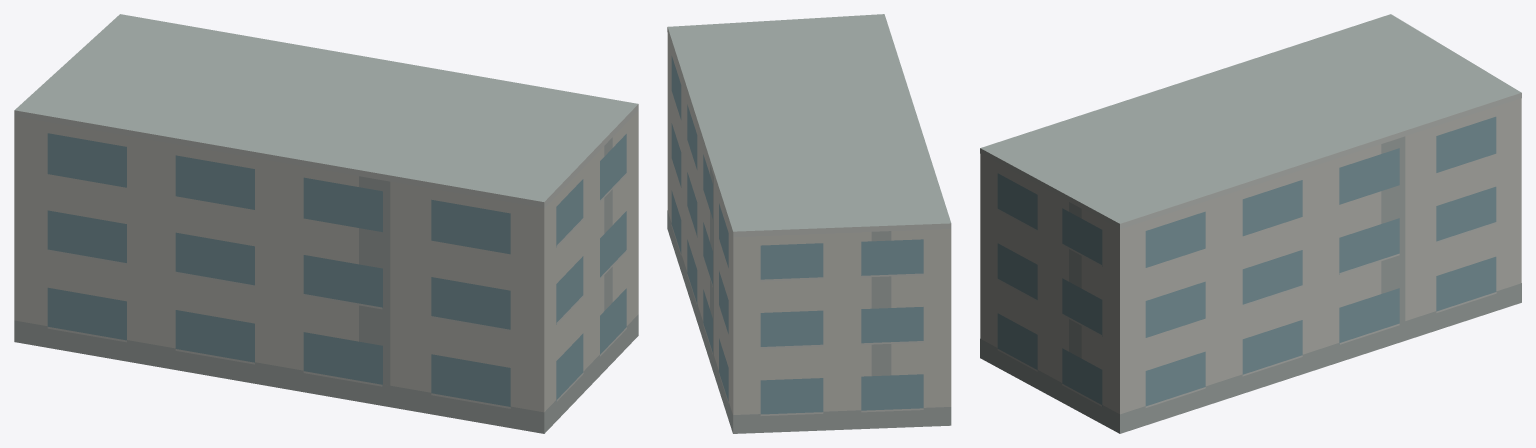
The model's file is residential-ad9d66e1-20d3-4e23-a75f-855586b9b0e5.glb.
3 renders of one model, left to right at view 1: azimuth 30°, elevation 25°; view 2: azimuth 150°, elevation 25°; view 3: azimuth 270°, elevation 25°, orthographic. The views are drawn at different scales.
Parts seen in each view (by area): view 1: residential-ad9d66e1-20d3-4e23-a75f-855586b9b0e5.tmp; view 2: residential-ad9d66e1-20d3-4e23-a75f-855586b9b0e5.tmp; view 3: residential-ad9d66e1-20d3-4e23-a75f-855586b9b0e5.tmp.
Part boxes in pixels (x1,y1,x2,y2): residential-ad9d66e1-20d3-4e23-a75f-855586b9b0e5.tmp: [14, 14, 638, 433]; residential-ad9d66e1-20d3-4e23-a75f-855586b9b0e5.tmp: [667, 14, 951, 433]; residential-ad9d66e1-20d3-4e23-a75f-855586b9b0e5.tmp: [980, 14, 1521, 433].
Size of the model in its own units: 19.62 by 9.15 by 21.39.
